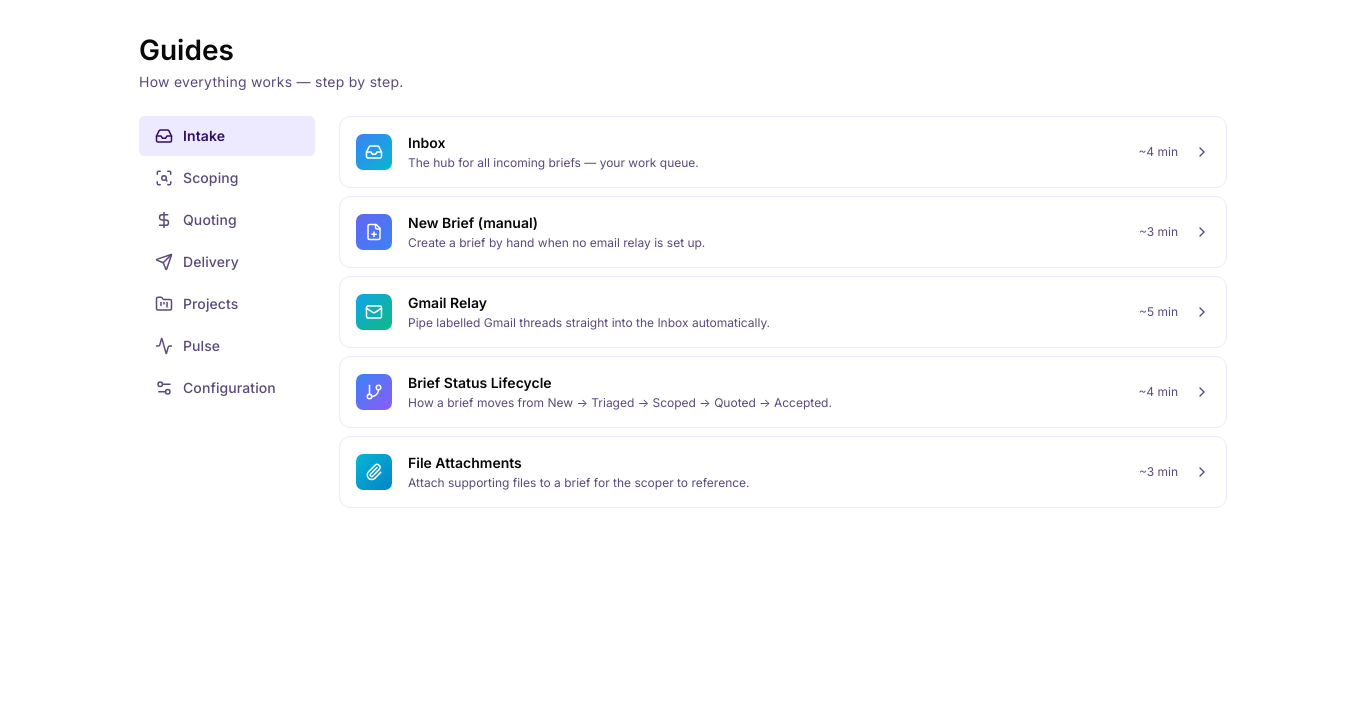
Test: GuidesPage › only one step expanded at a time
Click the text "Inbox" at (427, 142), box 408,134 -> 445,151
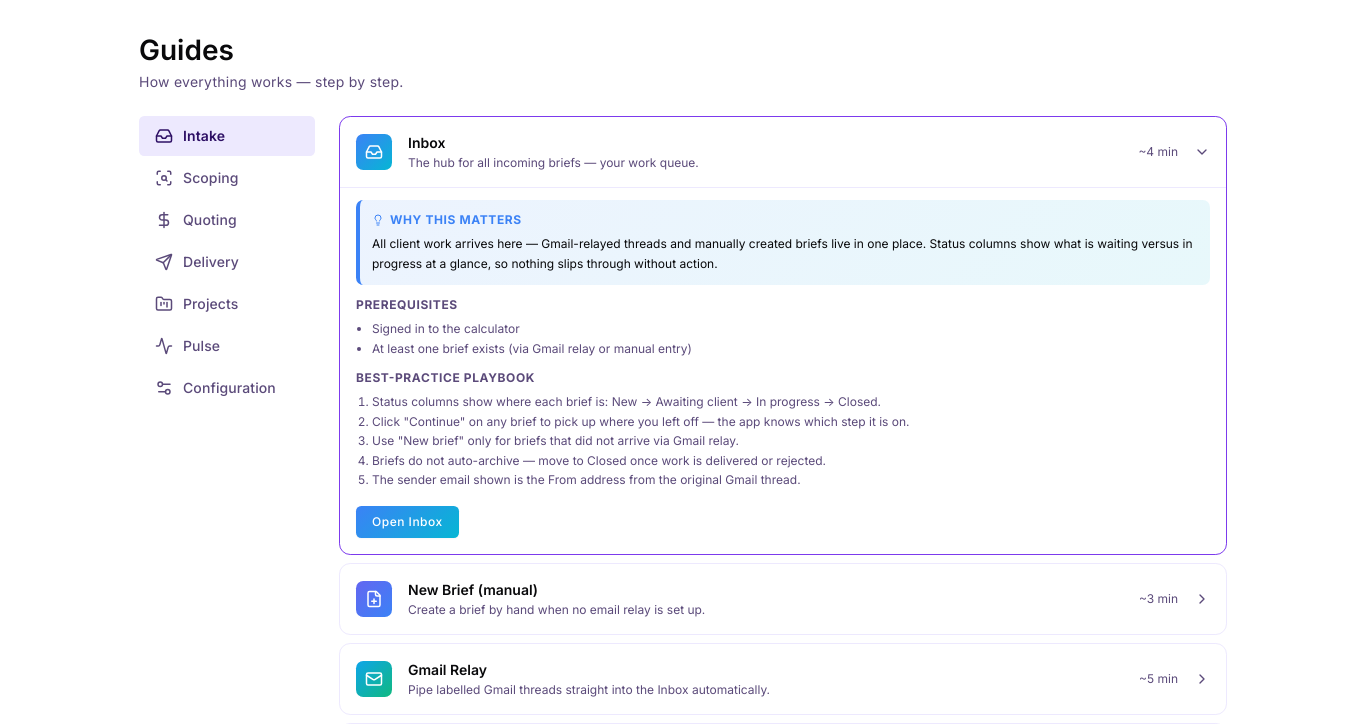
Expected: the text "Why this matters" is shown, 372,212 -> 522,227
Expanding step2 should collapse step1
Click the text "New Brief (manual)" at (473, 589), box 408,580 -> 538,598
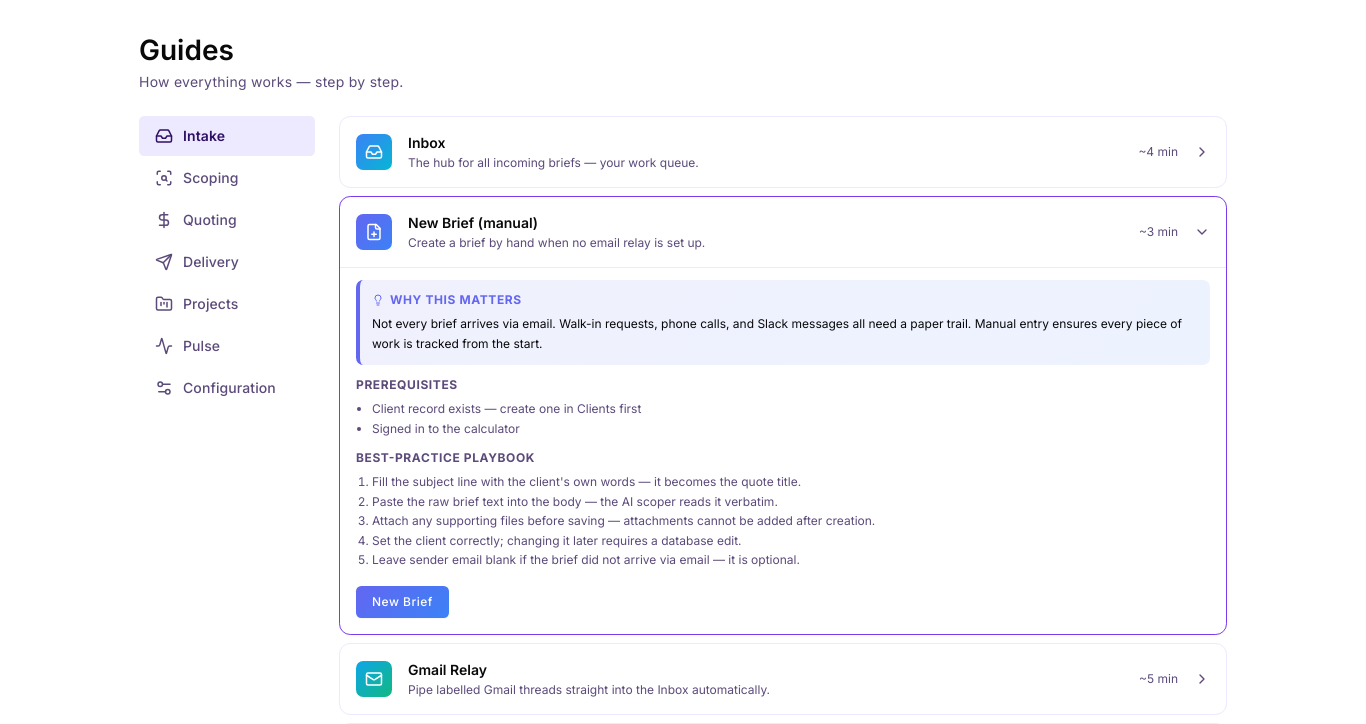
Expected: the text "Why this matters" is shown once, 372,292 -> 522,307
Expected: the text "Not every brief arrives via email. Walk-in requests, phone calls, and Slack messages all need a paper trail. Manual entr" is shown, 372,316 -> 1182,350
Expected: the text "All client work arrives here — Gmail-relayed threads and manually created briefs live in one place. Status columns show " is gone
